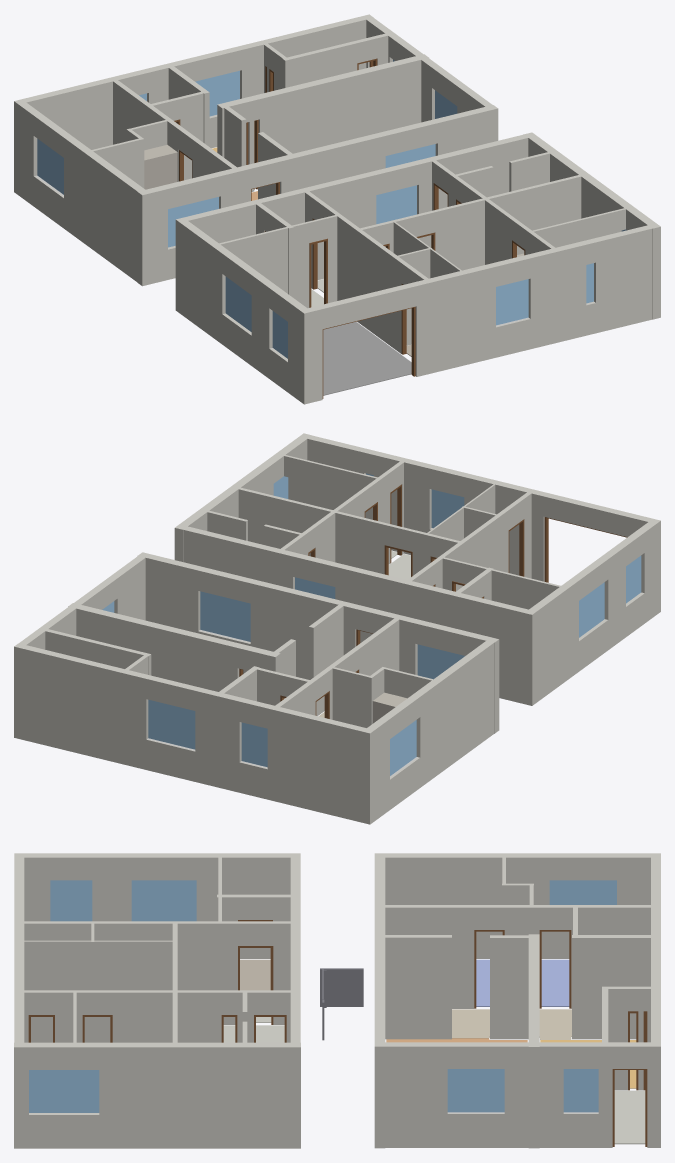
3 views of the same model, one above another, from view 1: azimuth 30°, elevation 25°; view 2: azimuth 150°, elevation 25°; view 3: azimuth 270°, elevation 25° (orthographic). The views are drawn at different scales.
Parts seen in each view (by area): view 1: walls, floor_12_Garage, furniture_1_closet, window_0, window_12, window_2, window_4, window_24, window_3, window_6, window_20, door_9; view 2: walls, window_6, window_2, window_5, window_3, window_4, window_24, window_0, window_20, furniture_0_closet; view 3: walls, window_16, window_24, window_21, floor_3_Entry, railings, window_20, floor_5_Undefined, window_4, window_23, floor_0_Bed_Room, floor_7_Storage (+5 smaller).
Part boxes in pixels (left/top/right/bottom): walls: left=14, top=14, right=660, bottom=404; floor_12_Garage: left=323, top=322, right=411, bottom=395; furniture_1_closet: left=144, top=144, right=177, bottom=189; window_0: left=496, top=279, right=528, bottom=325; window_12: left=376, top=185, right=416, bottom=224; window_2: left=195, top=70, right=239, bottom=116; window_4: left=37, top=138, right=63, bottom=194; window_24: left=225, top=276, right=251, bottom=331; window_3: left=168, top=197, right=218, bottom=247; window_6: left=385, top=144, right=435, bottom=167; window_20: left=272, top=311, right=287, bottom=358; door_9: left=322, top=306, right=415, bottom=398; walls: left=14, top=433, right=660, bottom=824; window_6: left=200, top=591, right=250, bottom=641; window_2: left=148, top=699, right=195, bottom=749; window_5: left=241, top=722, right=267, bottom=767; window_3: left=417, top=644, right=464, bottom=679; window_4: left=390, top=720, right=416, bottom=775; window_24: left=579, top=582, right=604, bottom=637; window_0: left=431, top=489, right=464, bottom=528; window_20: left=626, top=555, right=641, bottom=603; furniture_0_closet: left=372, top=692, right=406, bottom=723; walls: left=14, top=853, right=660, bottom=1148; window_16: left=29, top=1070, right=99, bottom=1112; window_24: left=131, top=880, right=196, bottom=921; window_21: left=447, top=1069, right=504, bottom=1112; floor_3_Entry: left=452, top=1009, right=571, bottom=1039; railings: left=320, top=968, right=363, bottom=1040; window_20: left=50, top=880, right=92, bottom=921; floor_5_Undefined: left=614, top=1090, right=645, bottom=1144; window_4: left=549, top=880, right=616, bottom=904; window_23: left=563, top=1069, right=598, bottom=1112; floor_0_Bed_Room: left=541, top=959, right=569, bottom=1006; floor_7_Storage: left=240, top=959, right=270, bottom=990.
Bounding box in the file's own units: 11.08 × 2.72 × 15.62.
